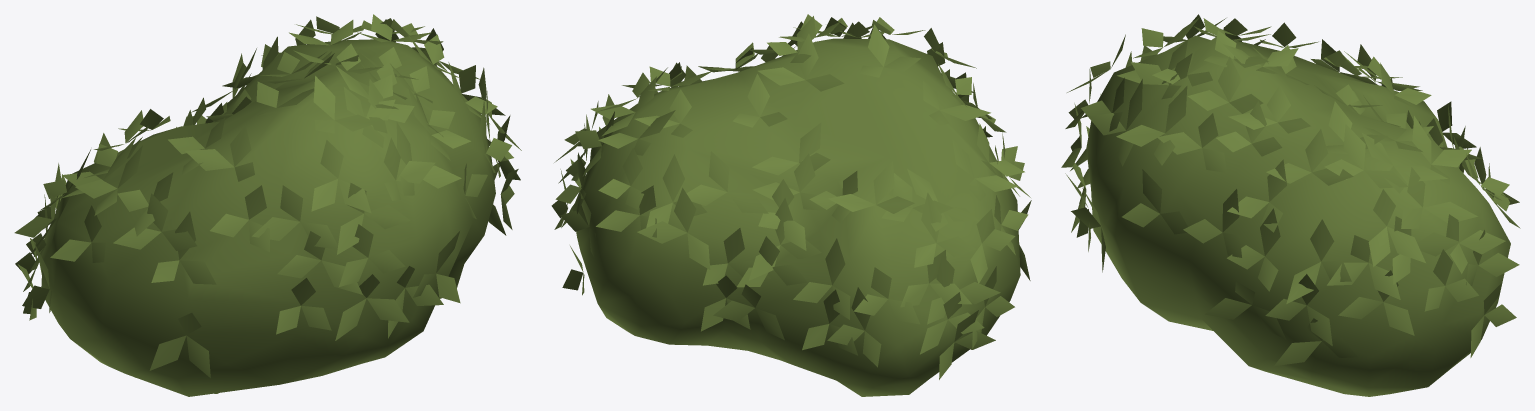
File: shrub-a.glb
3 views of the same model, side by side, from view 1: azimuth 30°, elevation 25°; view 2: azimuth 150°, elevation 25°; view 3: azimuth 270°, elevation 25° (orthographic). The views are drawn at different scales.
Visible parts, largest first — view 1: shrub-a; view 2: shrub-a; view 3: shrub-a.
Part boxes in pixels (x1,y1,x2,y2): shrub-a: (14, 14, 521, 396); shrub-a: (551, 14, 1031, 396); shrub-a: (1061, 14, 1520, 396).
Bounding box in the file's own units: 0.9034 × 0.6137 × 0.7812.
